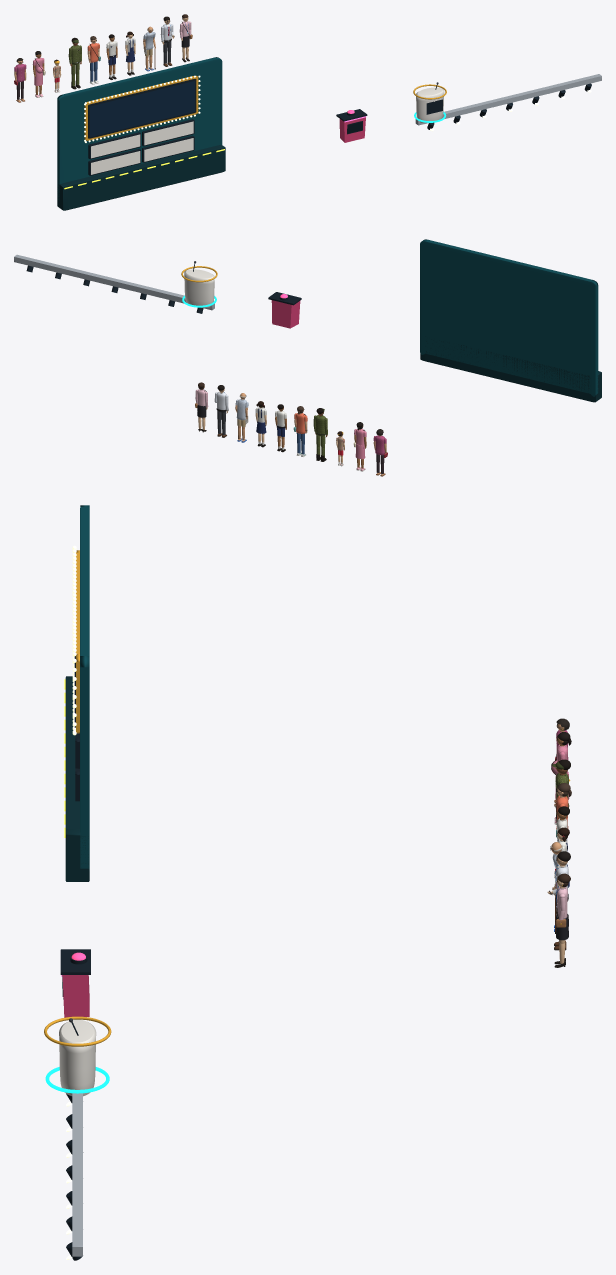
File: quiz-assets.glb
3 views of the same model, one above another, from view 1: azimuth 30°, elevation 25°; view 2: azimuth 150°, elevation 25°; view 3: azimuth 270°, elevation 25° (orthographic). The views are drawn at different scales.
Parts seen in each view (by area): view 1: QW_back, QW_base, QScreen, LT_bar, QW_screenframe, HD_body, QW_screeninner, QTile3, QTile0, QTile1, QTile2, Char_ns_Stand_Mesh (+13 smaller); view 2: QW_back, QW_base, LT_bar, HD_body, QP_body, Char_ns_Stand_Mesh, Char_worker_a_Stand_Mesh, Char_parent_Stand_Mesh, Char_worker_b_Stand_Mesh, Char_expecting_Stand_Mesh, Char_aunty_Stand_Mesh, Char_uncle_Stand_Mesh (+2 smaller); view 3: QW_back, QW_base, HD_body, LT_bar, QP_body, Char_worker_b_Stand_Mesh.
Part boxes in pixels (<box>): QW_back: <box>57,57,222,200</box>; QW_base: <box>57,145,225,210</box>; QScreen: <box>90,81,194,136</box>; LT_bar: <box>415,74,601,125</box>; QW_screenframe: <box>84,75,198,140</box>; HD_body: <box>416,87,444,122</box>; QW_screeninner: <box>88,79,196,138</box>; QTile3: <box>144,138,193,161</box>; QTile0: <box>91,134,140,158</box>; QTile1: <box>144,121,193,145</box>; QTile2: <box>91,151,140,174</box>; Char_ns_Stand_Mesh: <box>68,37,81,89</box>; QW_back: <box>420,239,598,396</box>; QW_base: <box>420,336,601,402</box>; LT_bar: <box>14,254,214,310</box>; HD_body: <box>184,269,214,307</box>; QP_body: <box>271,300,300,328</box>; Char_ns_Stand_Mesh: <box>313,408,327,461</box>; Char_worker_a_Stand_Mesh: <box>214,385,228,437</box>; Char_parent_Stand_Mesh: <box>293,406,307,456</box>; Char_worker_b_Stand_Mesh: <box>195,382,208,432</box>; Char_expecting_Stand_Mesh: <box>353,422,366,471</box>; Char_aunty_Stand_Mesh: <box>373,429,387,476</box>; Char_uncle_Stand_Mesh: <box>235,393,248,442</box>; QW_back: <box>80,505,89,870</box>; QW_base: <box>65,676,89,881</box>; HD_body: <box>59,1019,96,1096</box>; LT_bar: <box>72,1093,82,1256</box>; QP_body: <box>62,975,89,1017</box>; Char_worker_b_Stand_Mesh: <box>554,873,570,967</box>.
Bounding box in the file's own units: 20.6 × 4.43 × 8.71.
Materials: 116 (9 with a texture image).
